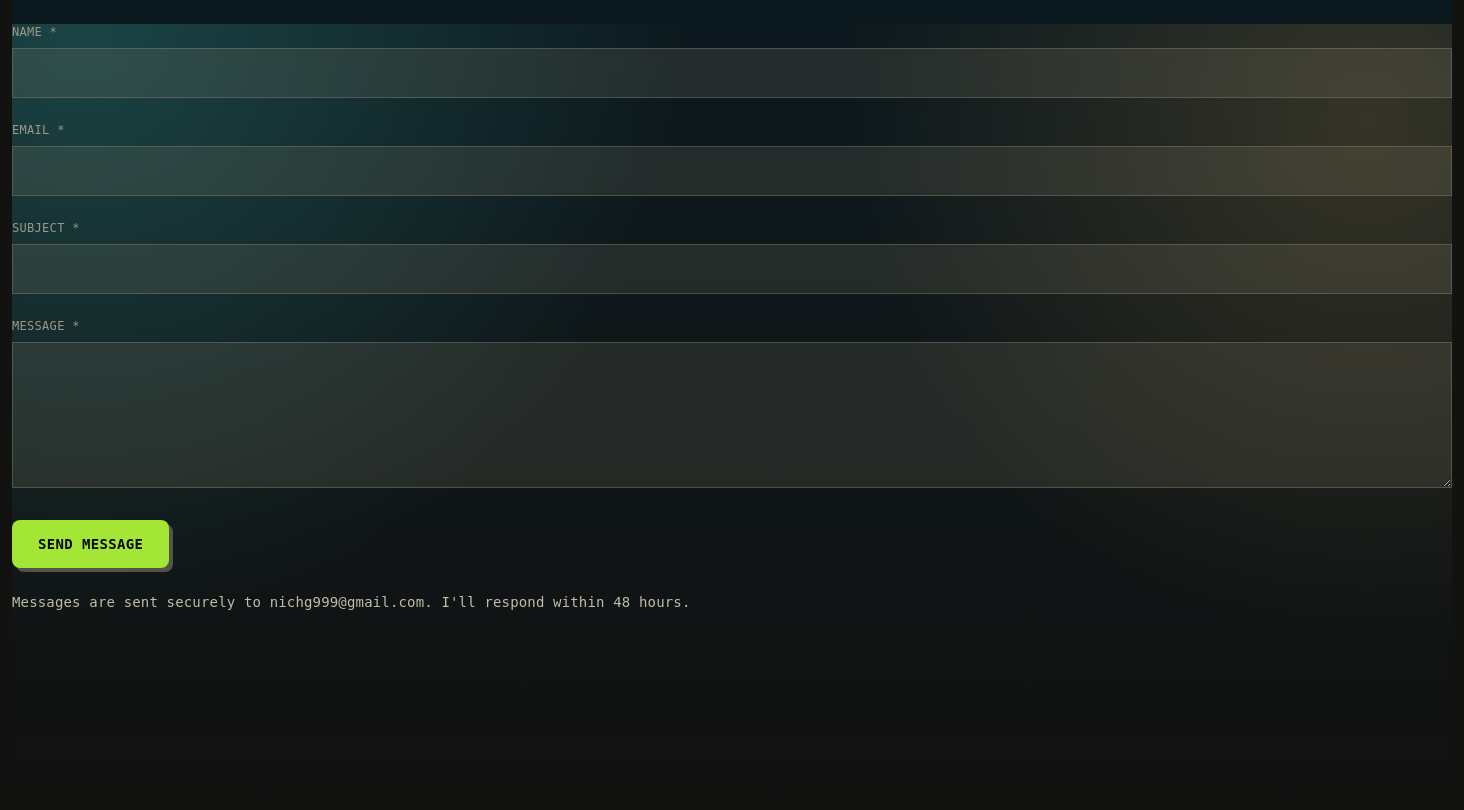
ContactForm › disables inputs and shows the sending state while submitting
Step 1. Type "Ada Lovelace" into the field labelled "Name *" → (732, 73), box [12,48,1452,98]
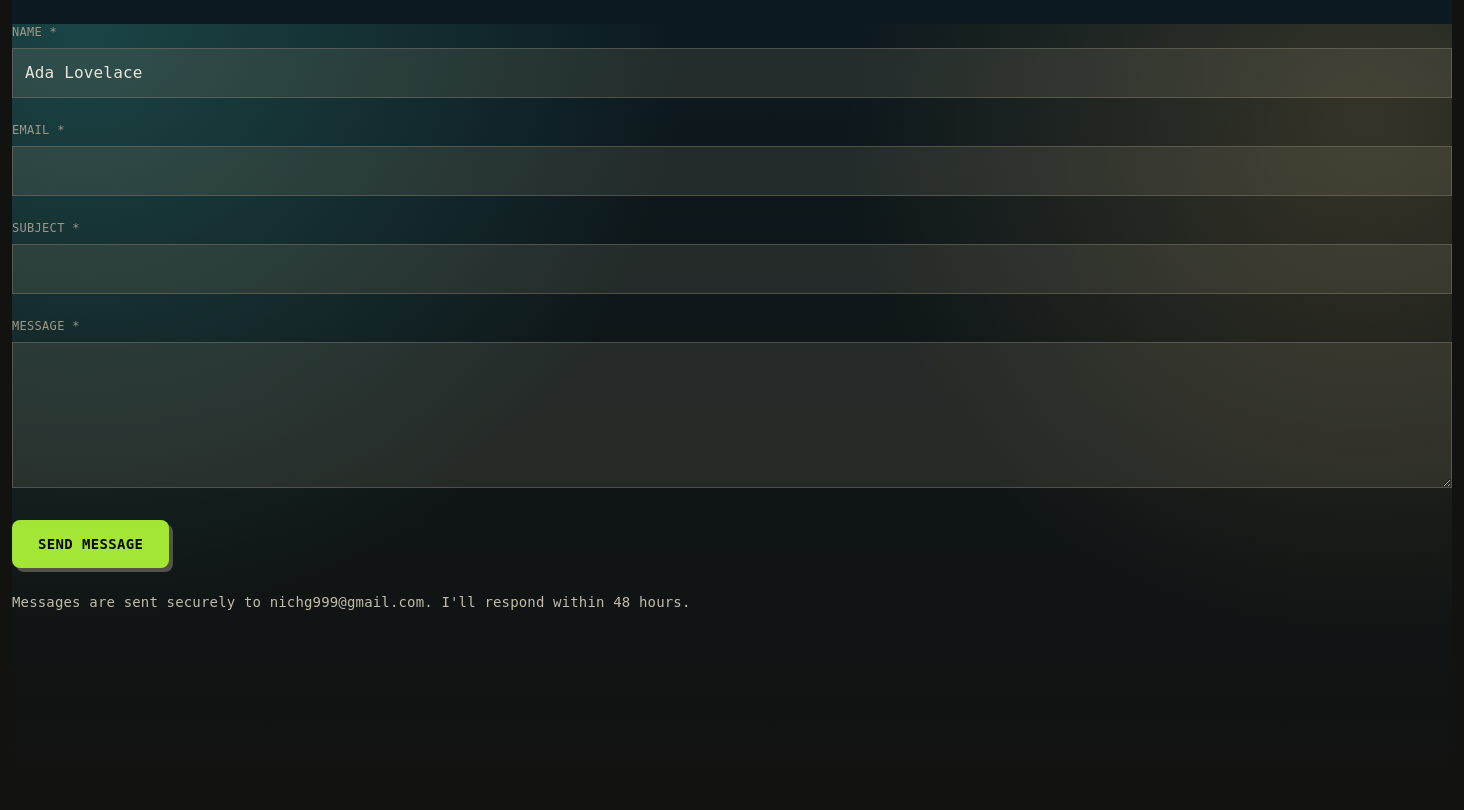
Step 2. Type "ada@example.com" into the field labelled "Email *" → (732, 171), box [12,146,1452,196]
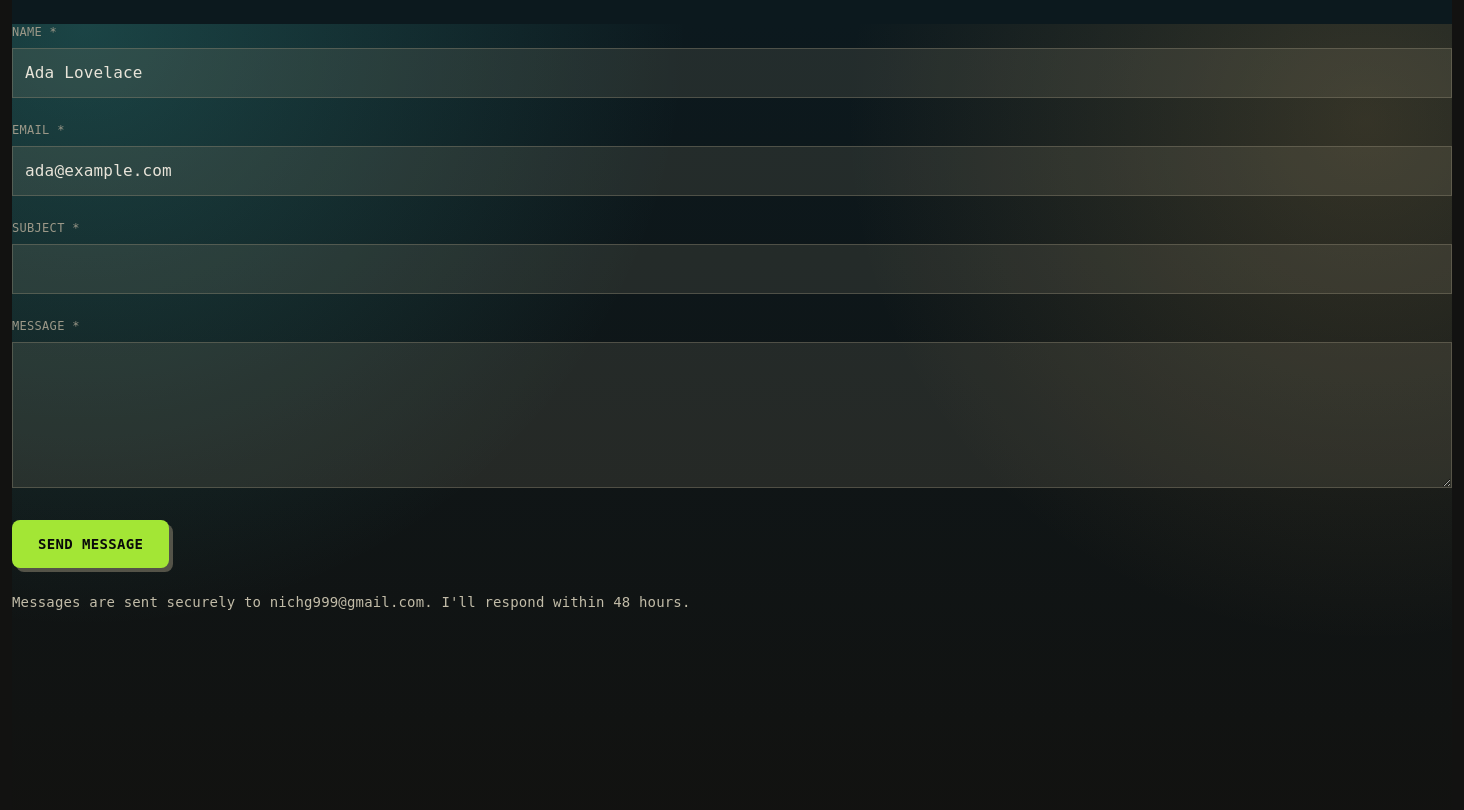
Step 3. Type "Hello there" into the field labelled "Subject *" → (732, 269), box [12,244,1452,294]
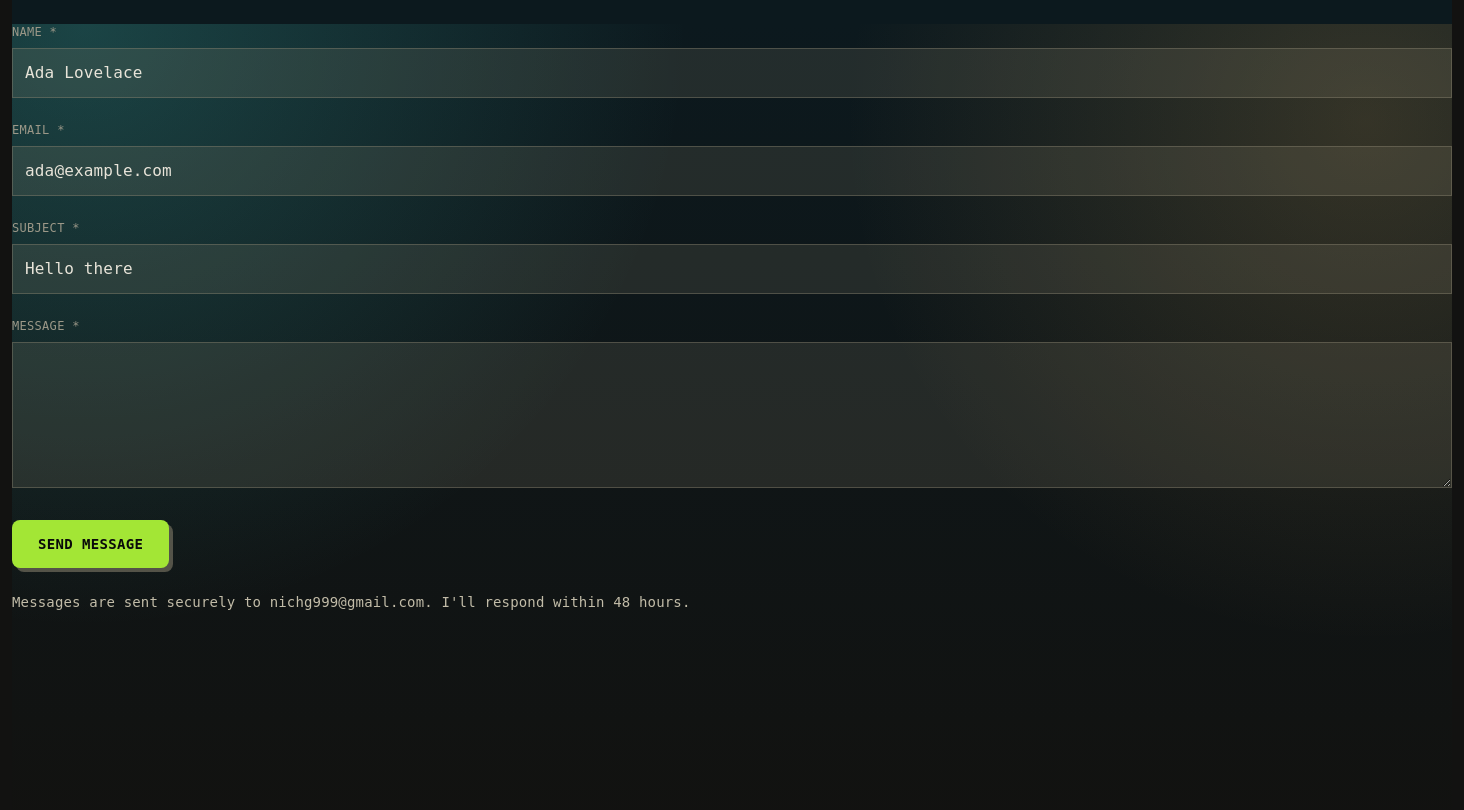
Step 4. Type "Loved the site, great work!" into the text box labelled "Message *" → (732, 415), box [12,342,1452,488]
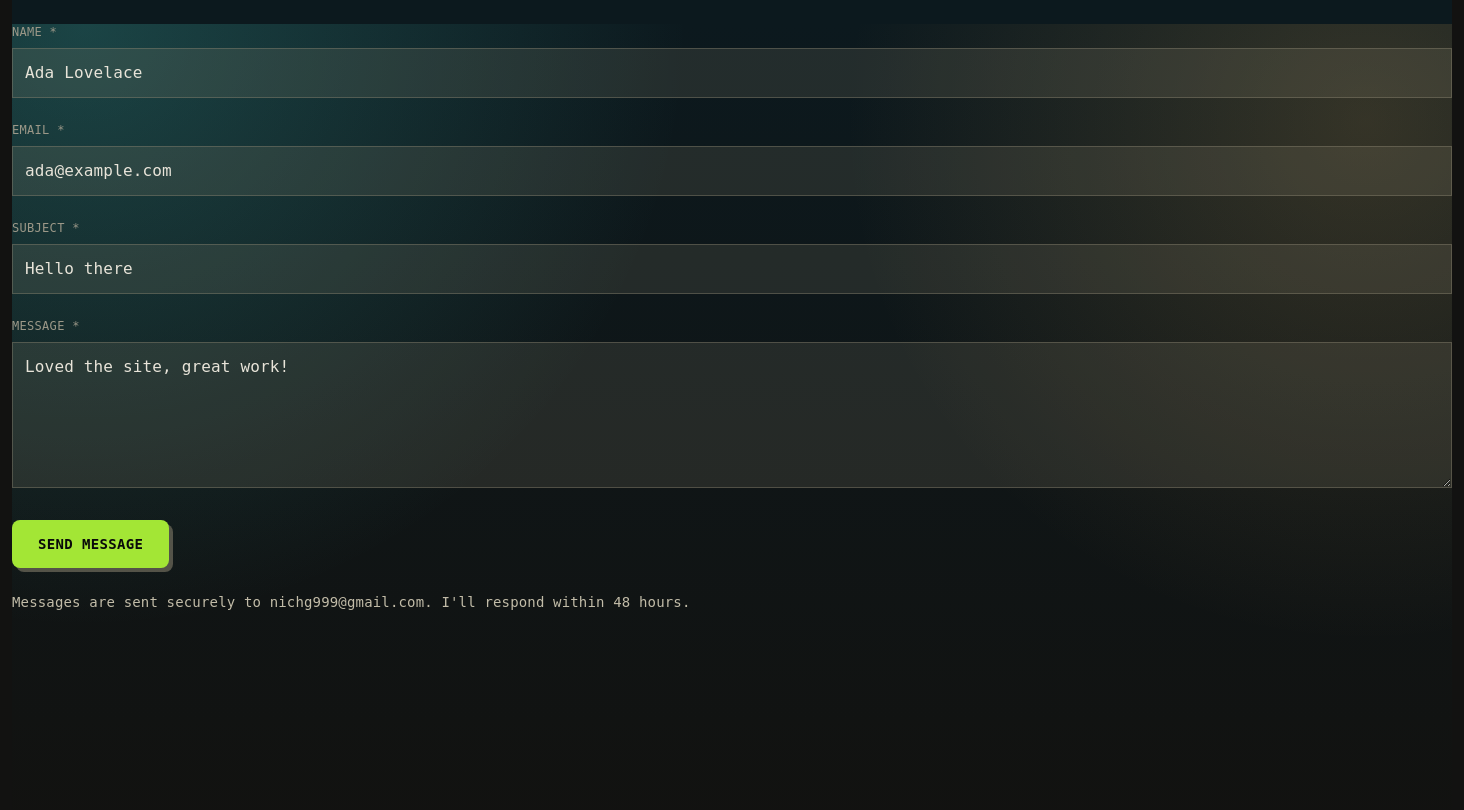
Step 5. Submit the form "Send Message"
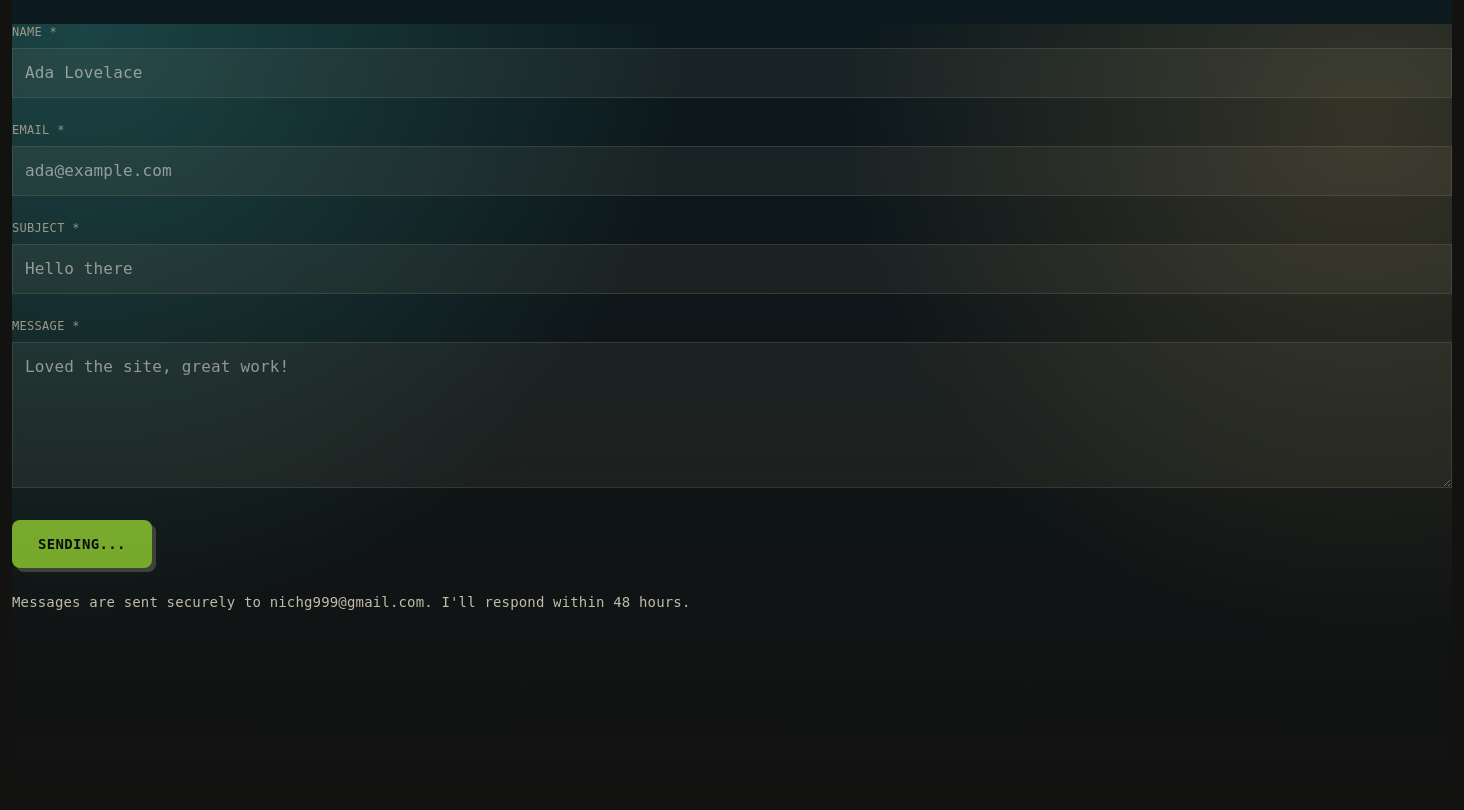
Expected: the field labelled "Name *" is disabled, [12,48,1452,98]
Expected: the text "Sending..." is shown, [38,536,126,552]
